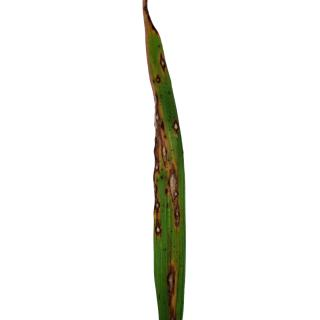Blast: (164, 264, 178, 320), (143, 0, 156, 37), (167, 164, 179, 203), (158, 143, 170, 169), (172, 199, 181, 233), (157, 53, 168, 75), (170, 117, 180, 138), (154, 218, 163, 237), (156, 108, 160, 136), (154, 76, 163, 84), (155, 199, 160, 212)
